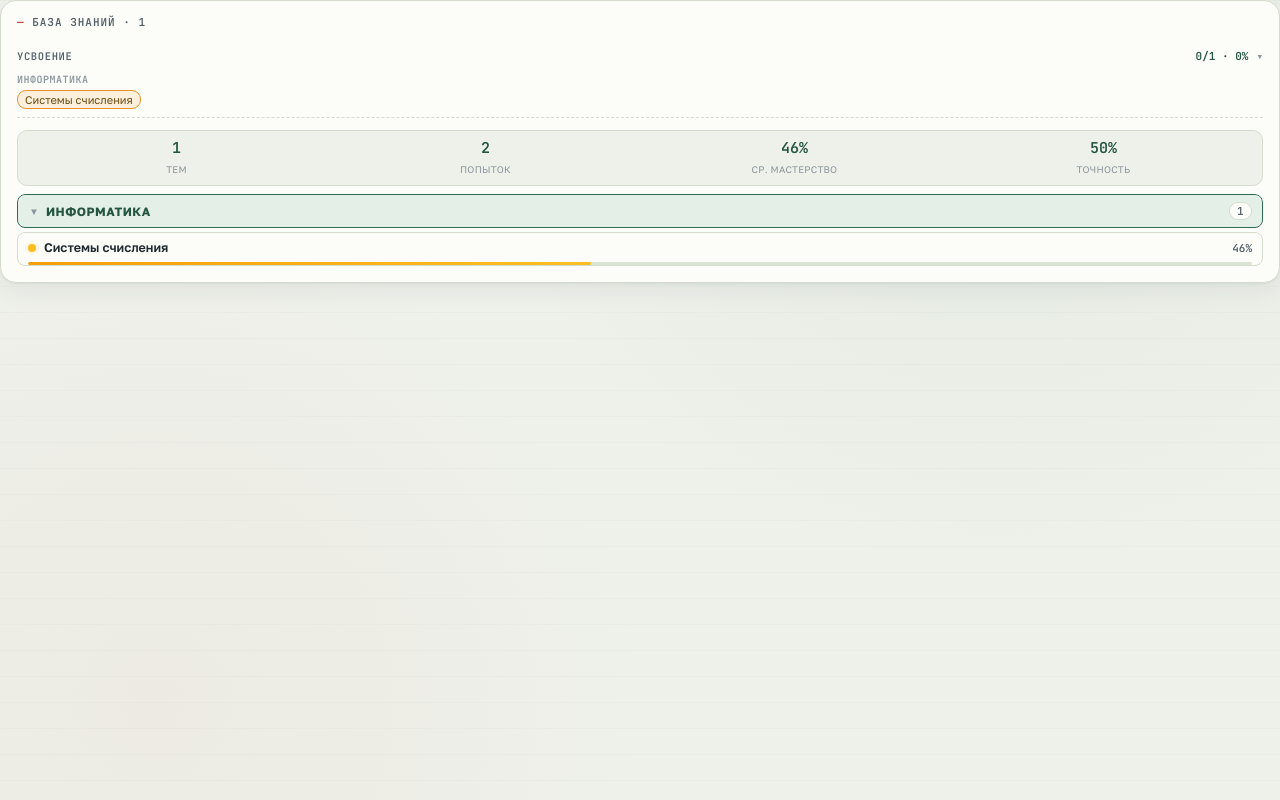
Test: KnowledgeWikiPanel › предлагает сгенерировать изложение, когда тело — плейсхолдер, и не показывает «unverified»
Expected: the button "▾ Информатика 1" is shown, [17, 194, 1263, 228]
Click the button "Системы счисления 46%": (106, 248) [18, 233, 1262, 262]
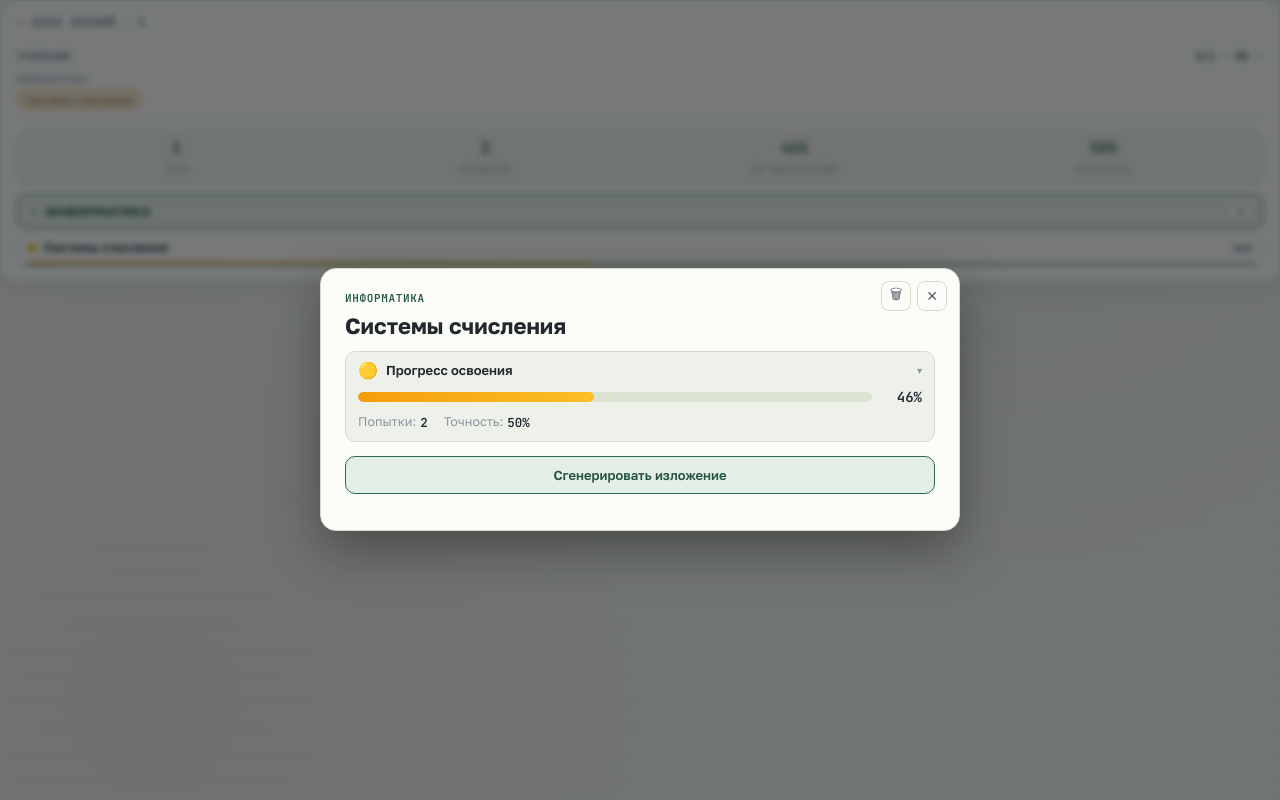
Expected: the button "Сгенерировать изложение" is shown, [345, 457, 935, 495]
